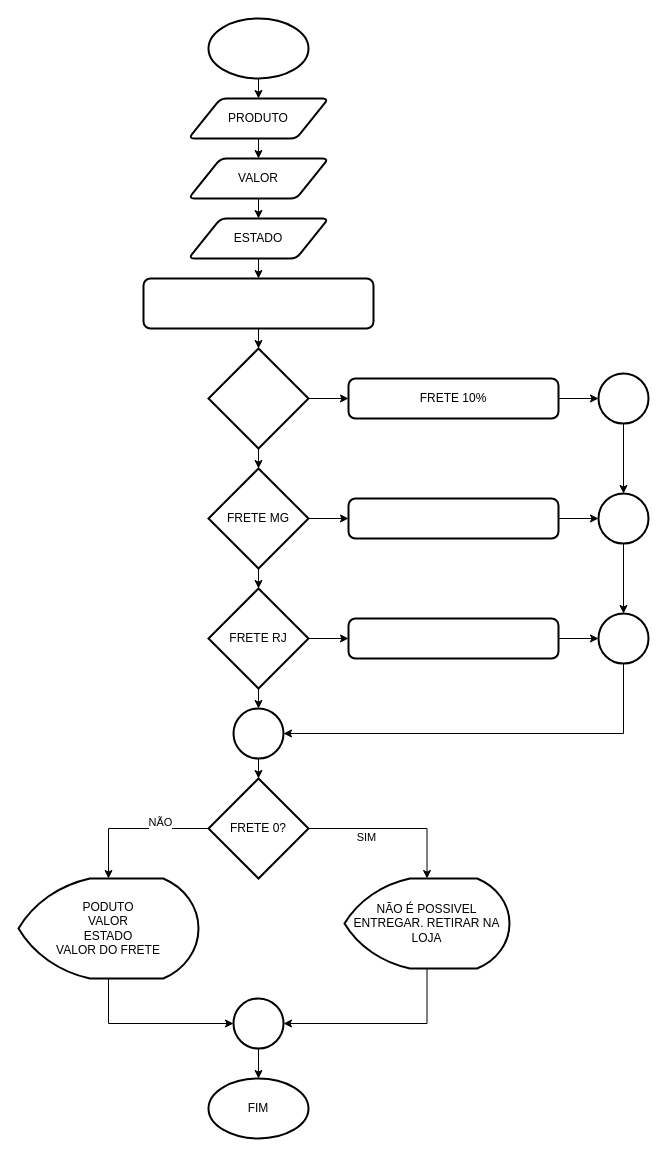
Image size: 666x1156. Some labels were removed from this diagram. Here are the shapes that lost their labels. From the top down, the centre of each, then its label:
the point at 258,48: INICIO
the point at 258,303: MOVE 0 FRETE
the point at 258,398: FRETE SP
the point at 453,518: FRETE 15%
the point at 453,638: FRETE 20%
